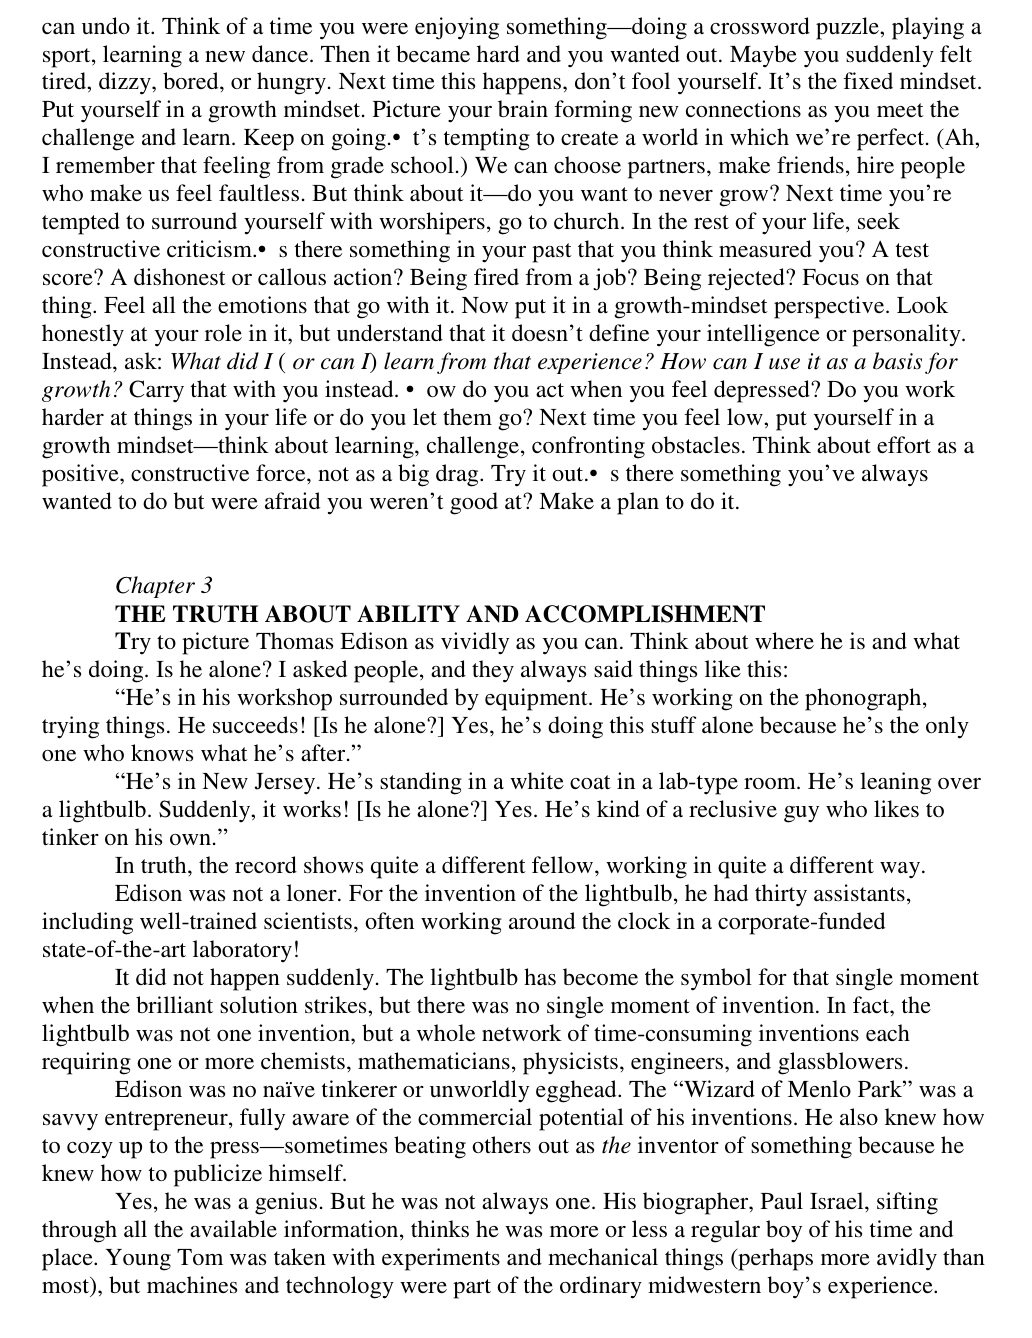latin: (38, 17, 984, 518), (30, 1186, 986, 1300), (33, 962, 980, 1075), (39, 1075, 986, 1187), (35, 847, 930, 962), (30, 766, 983, 849), (38, 684, 973, 767), (39, 623, 962, 684), (108, 601, 767, 623), (111, 571, 214, 601)
